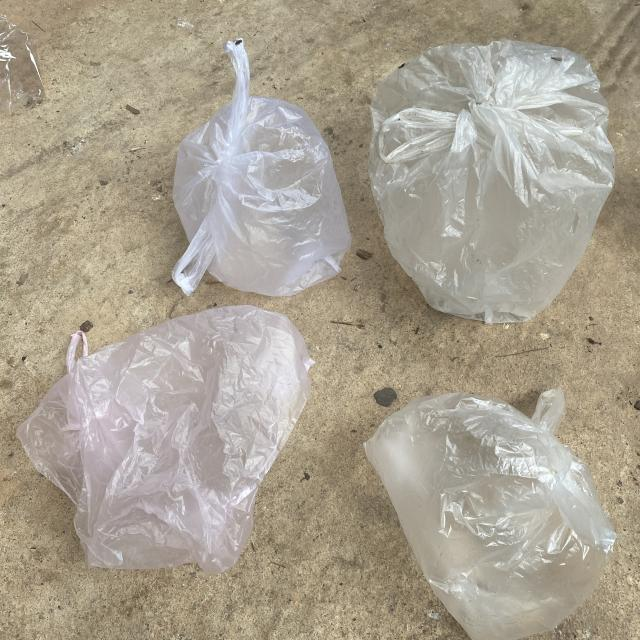Single-layer Plastic: (16, 305, 314, 574), (369, 40, 615, 324), (365, 388, 616, 640), (172, 39, 351, 296)
